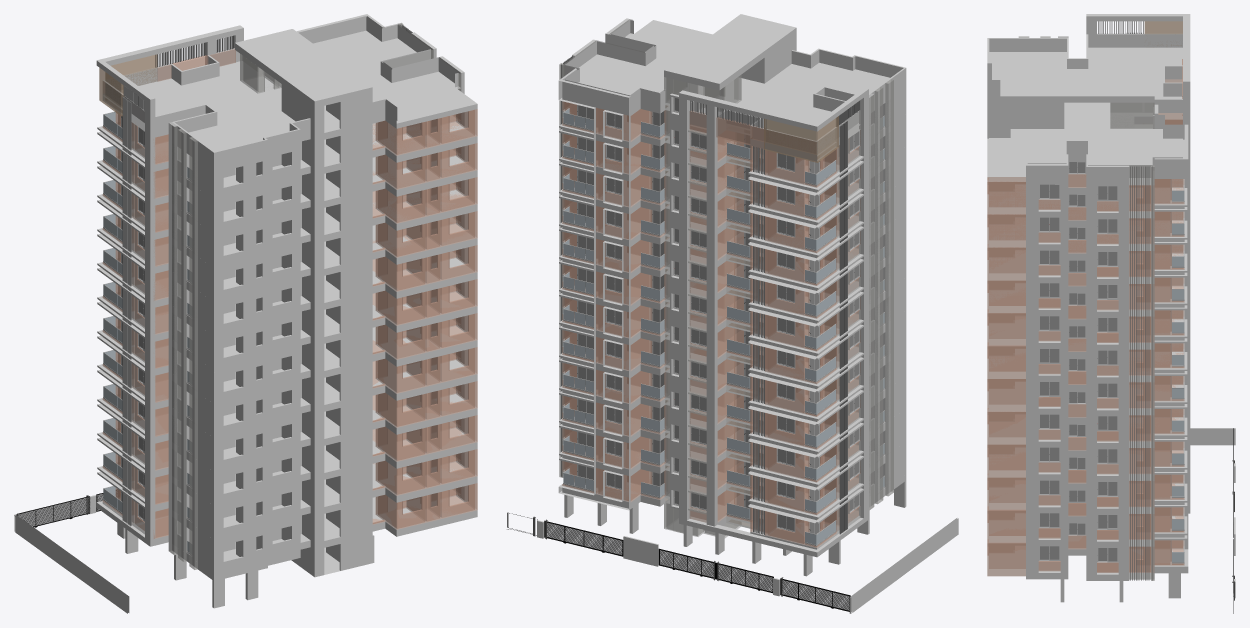
File: Darshile-test-030-v2.glb
3 views of the same model, side by side, from view 1: azimuth 30°, elevation 25°; view 2: azimuth 150°, elevation 25°; view 3: azimuth 270°, elevation 25° (orthographic). The views are drawn at different scales.
Parts seen in each view (by area): view 1: skp; view 2: skp; view 3: skp.
Part boxes in pixels (x1,y1,x2,y2): skp: (14, 14, 477, 613); skp: (507, 14, 958, 613); skp: (987, 14, 1235, 613).
Size of the model in its own units: 33.17 by 42 by 20.56.
